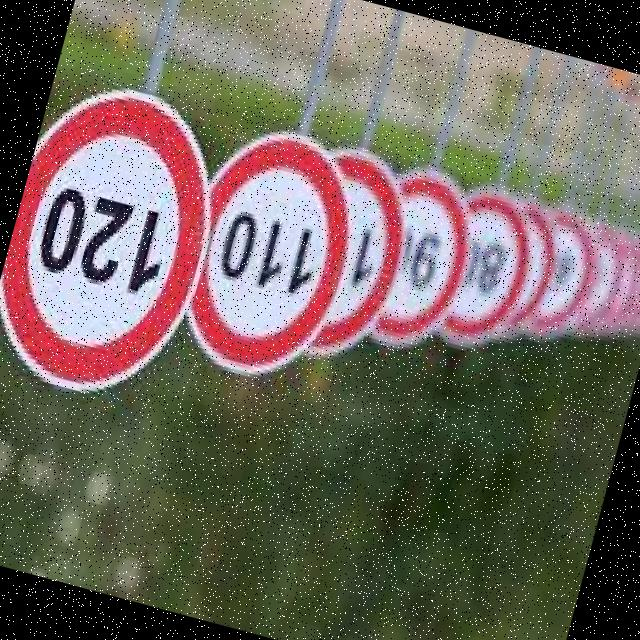speed_limit_120: (0, 66, 245, 425)
